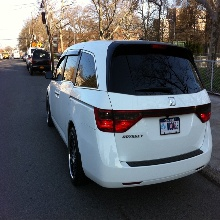no damage: (44, 41, 215, 192), (24, 49, 52, 75)
